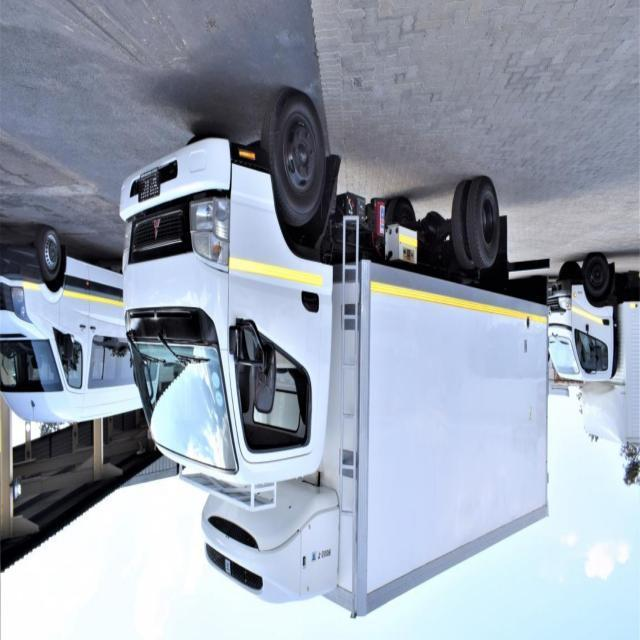truck: (118, 92, 550, 616), (548, 265, 640, 441)
